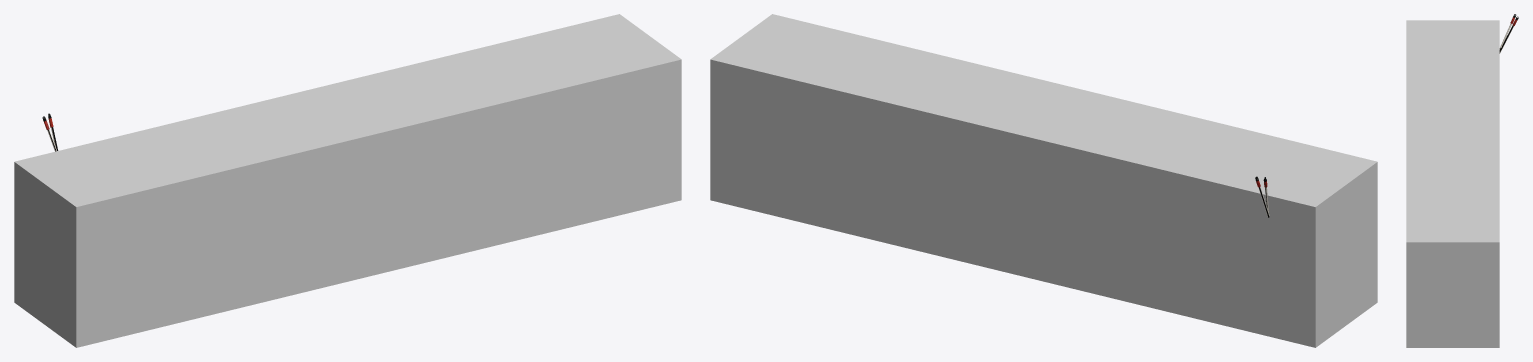
The model's file is sf04_goods.gltf.
3 views of the same model, side by side, from view 1: azimuth 30°, elevation 25°; view 2: azimuth 150°, elevation 25°; view 3: azimuth 270°, elevation 25° (orthographic). The views are drawn at different scales.
Parts seen in each view (by area): view 1: sf04_goods_COL; view 2: sf04_goods_COL; view 3: sf04_goods_COL, sf04_goods_LOD0.
Part boxes in pixels (bbox=[...]): sf04_goods_COL: bbox=[14, 14, 681, 347]; sf04_goods_COL: bbox=[710, 14, 1377, 347]; sf04_goods_COL: bbox=[1406, 20, 1499, 347]; sf04_goods_LOD0: bbox=[1499, 14, 1518, 53].
Size of what is drawn, in the model's own units: 4.5 by 1.2 by 0.9633.
1 material, 1 textured.
